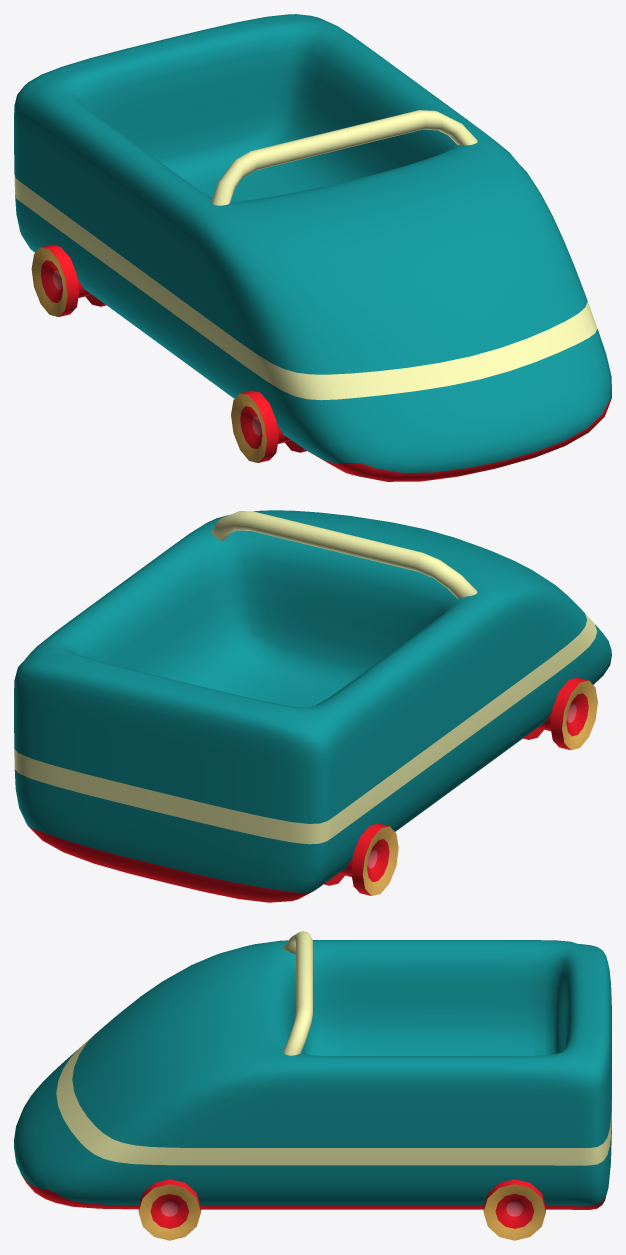
Rendered from Roller_Coaster.fbx.
The picture shows the model from 3 angles, top to bottom: view 1: azimuth 30°, elevation 25°; view 2: azimuth 150°, elevation 25°; view 3: azimuth 270°, elevation 25°; orthographic projection. The views are drawn at different scales.
Parts seen in each view (by area): view 1: Roller_Coaster; view 2: Roller_Coaster; view 3: Roller_Coaster.
Boxes of the visible parts, left/top/right/bottom form: Roller_Coaster: left=14, top=14, right=611, bottom=481; Roller_Coaster: left=14, top=510, right=611, bottom=902; Roller_Coaster: left=14, top=931, right=611, bottom=1240.
Size of the model in its own units: 162 by 108 by 293.
